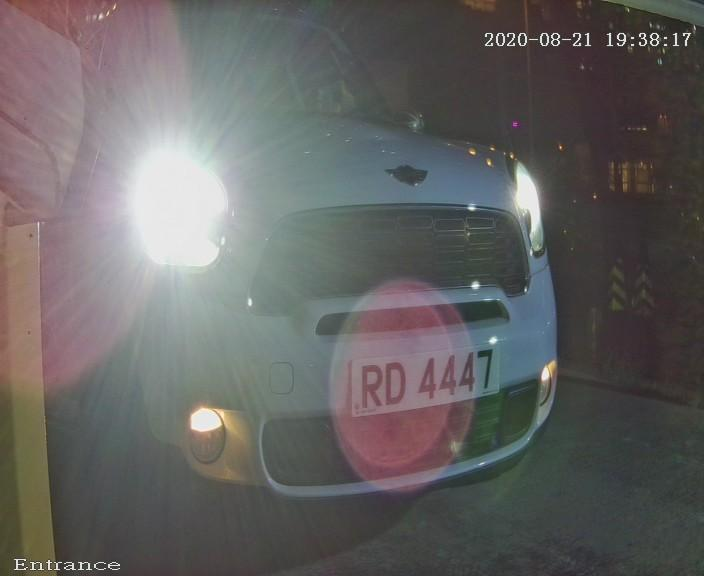Car: (4, 6, 642, 561)
License Plate: (314, 320, 520, 442)
